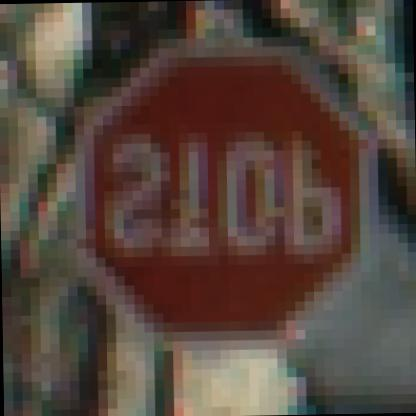stop: (56, 28, 400, 362)
